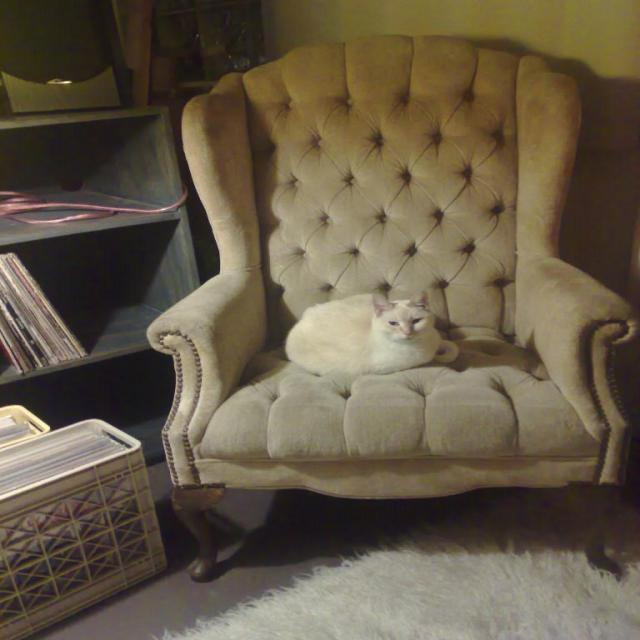Box: (0, 419, 169, 640), (0, 402, 51, 448)
